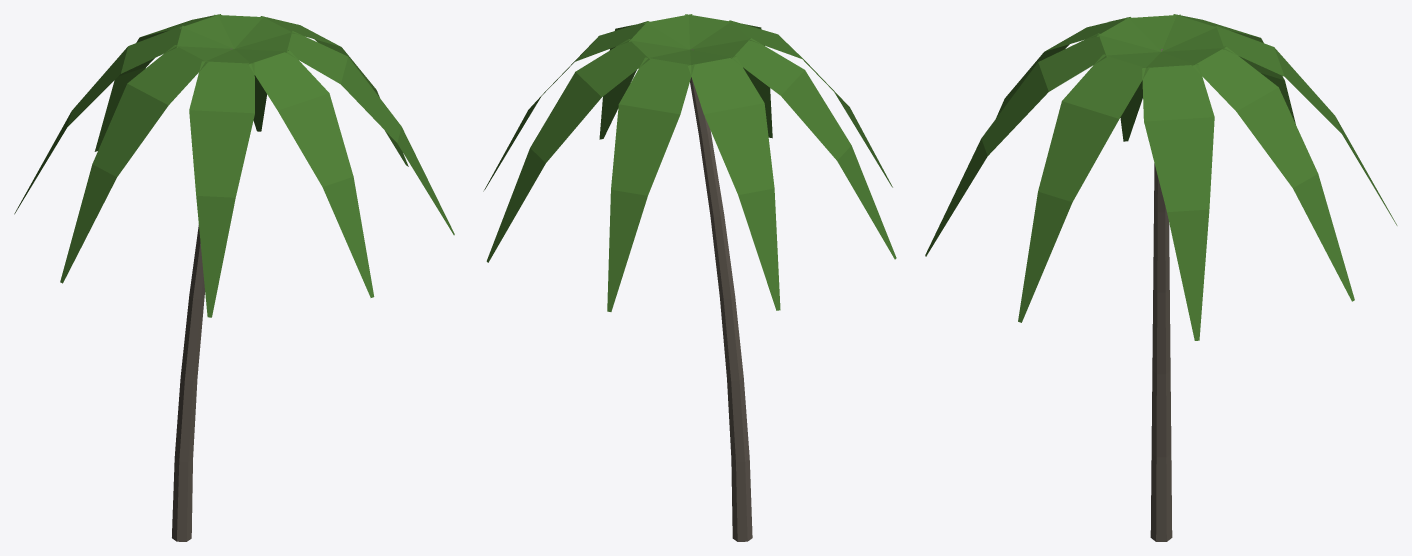
The picture shows the model from 3 angles, left to right: view 1: azimuth 30°, elevation 25°; view 2: azimuth 150°, elevation 25°; view 3: azimuth 270°, elevation 25°; orthographic projection. The views are drawn at different scales.
Visible parts, largest first — view 1: 树_13; view 2: 树_13; view 3: 树_13.
Part boxes in pixels (x1,y1,x2,y2): 树_13: [14, 14, 454, 541]; 树_13: [483, 14, 896, 541]; 树_13: [925, 14, 1397, 541].
Bounding box in the file's own units: 7.35 × 9 × 7.35.
